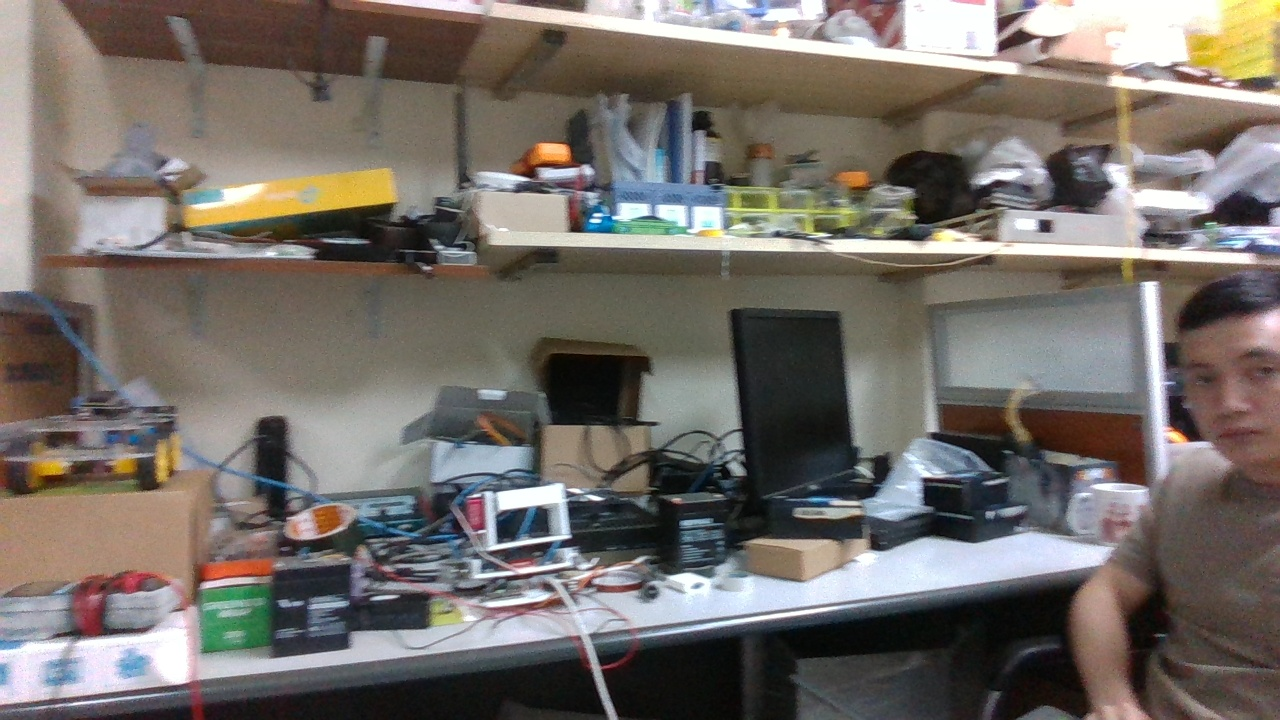person: (991, 262, 1275, 720)
